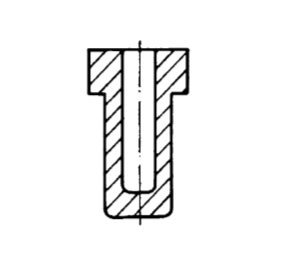nrfp: (108, 30, 166, 209)
